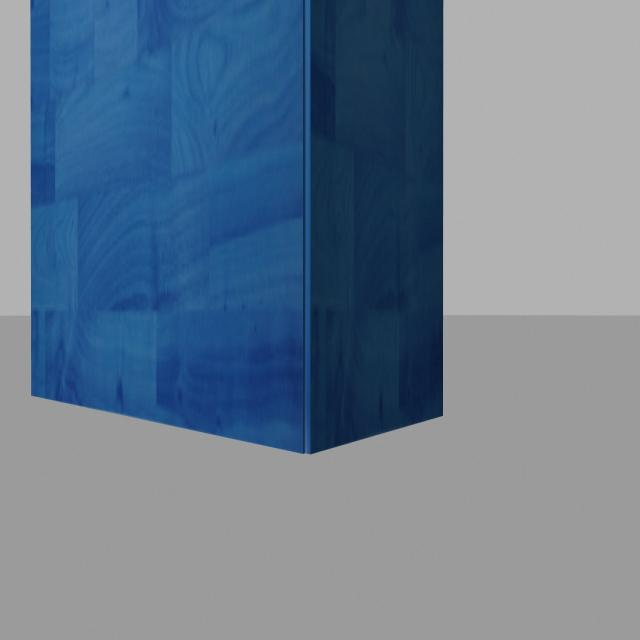shelf: (13, 0, 464, 464)
